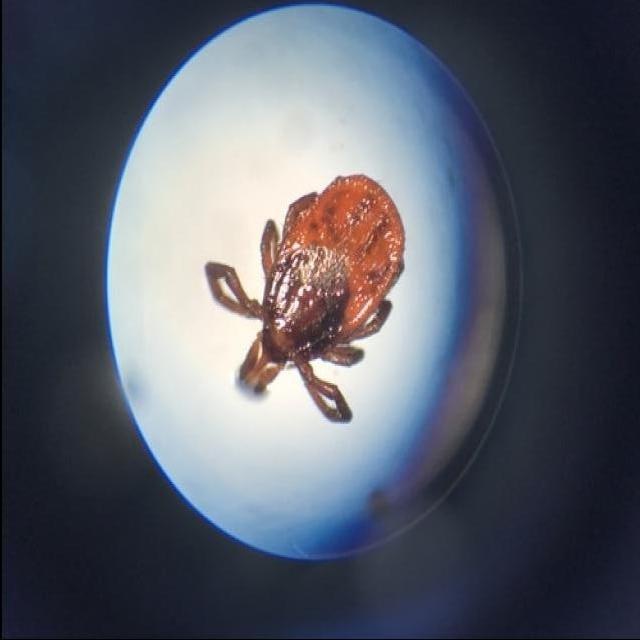Ixodes Ricinus-F: (201, 174, 402, 425)
